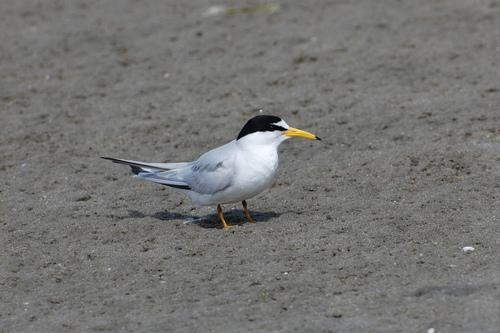bird: (101, 115, 321, 233)
